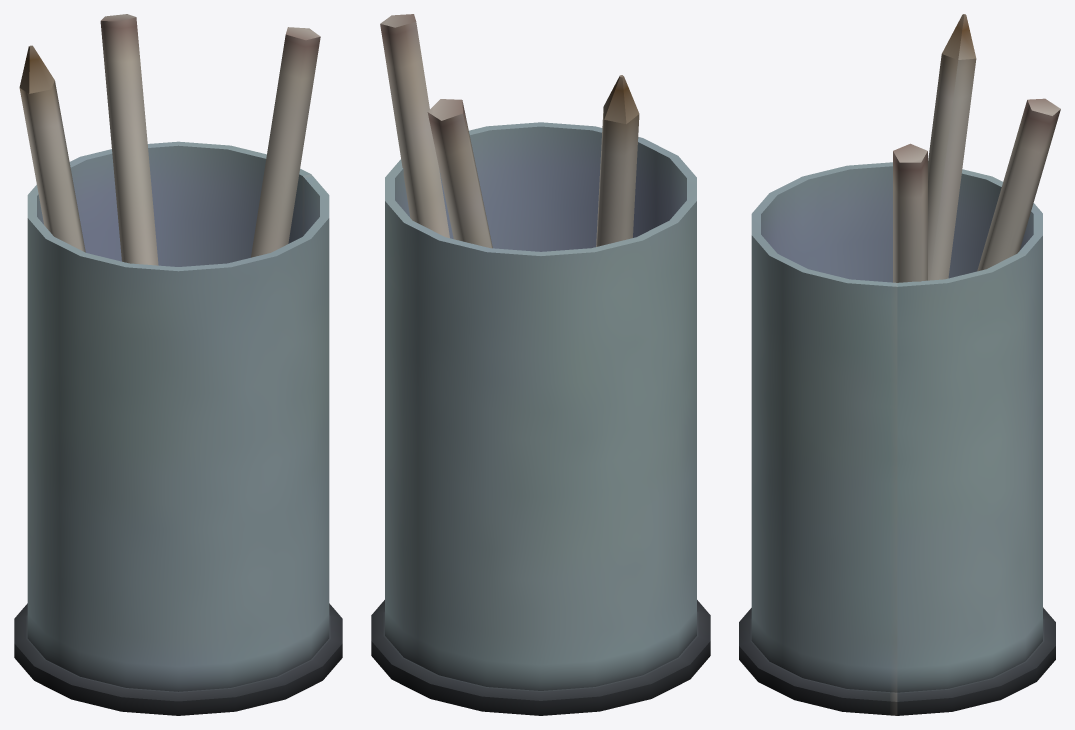
Rendered from WorkDesk_Pens.FBX.
The picture shows the model from 3 angles, left to right: view 1: azimuth 30°, elevation 25°; view 2: azimuth 150°, elevation 25°; view 3: azimuth 270°, elevation 25°; orthographic projection. The views are drawn at different scales.
Parts seen in each view (by area): view 1: WorkDesk_Pens; view 2: WorkDesk_Pens; view 3: WorkDesk_Pens.
Part boxes in pixels (left/top/right/bottom): WorkDesk_Pens: left=14, top=14, right=342, bottom=715; WorkDesk_Pens: left=371, top=14, right=710, bottom=715; WorkDesk_Pens: left=739, top=14, right=1060, bottom=715.
Size of the model in its own units: 8.04 by 16.01 by 8.05.
